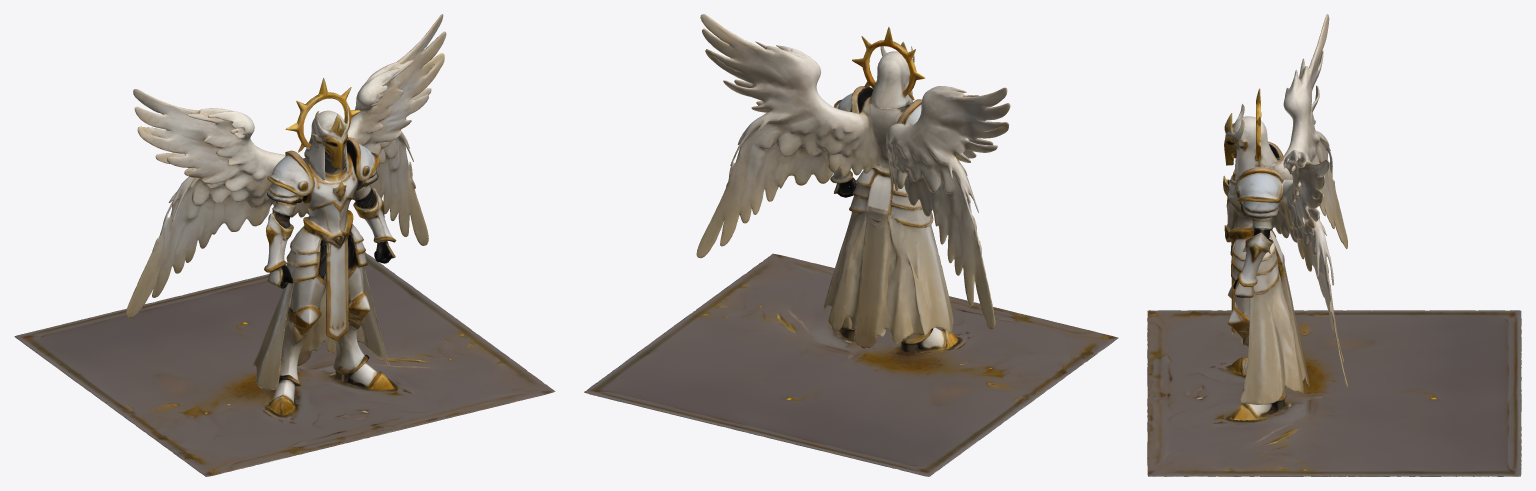
Rendered from boss_z29_archon.glb.
3 views of the same model, side by side, from view 1: azimuth 30°, elevation 25°; view 2: azimuth 150°, elevation 25°; view 3: azimuth 270°, elevation 25° (orthographic). The views are drawn at different scales.
Visible parts, largest first — view 1: geometry_0; view 2: geometry_0; view 3: geometry_0.
Part boxes in pixels (x1,y1,x2,y2): geometry_0: [14, 14, 555, 476]; geometry_0: [584, 14, 1118, 476]; geometry_0: [1147, 14, 1521, 476].
Size of the model in its own units: 1 by 0.8631 by 0.9526.
Materials: 1 (1 with a texture image).
